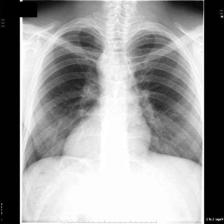tuberculosis: (21, 14, 204, 198)
